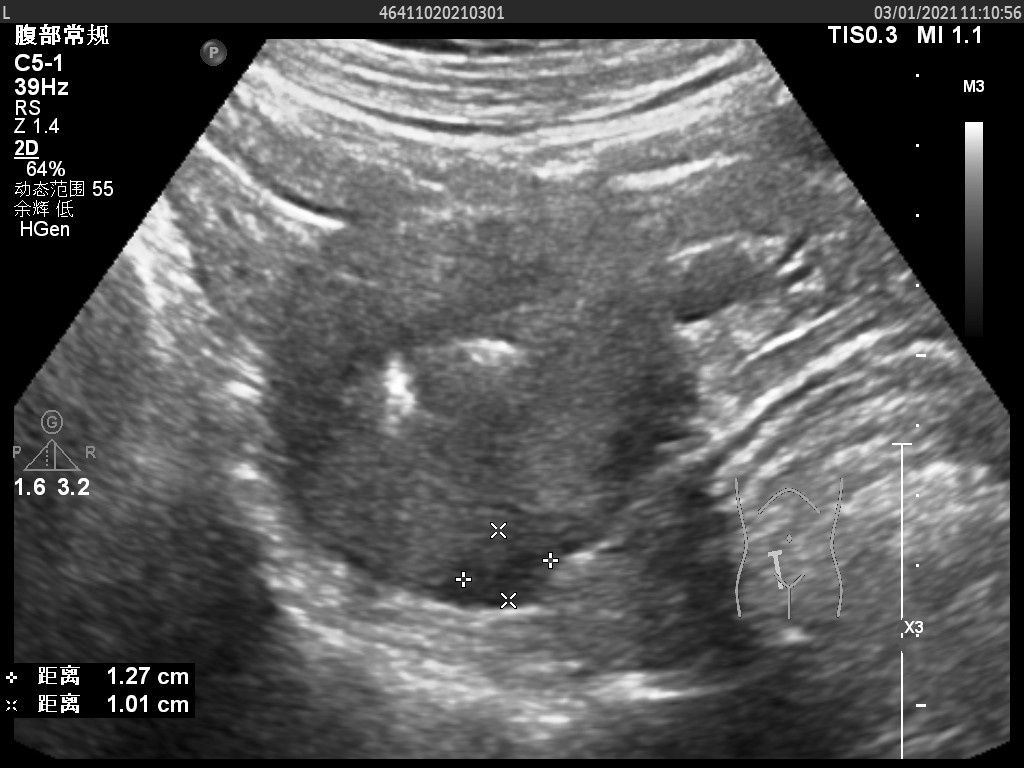肌瘤: (460, 530, 555, 600)
